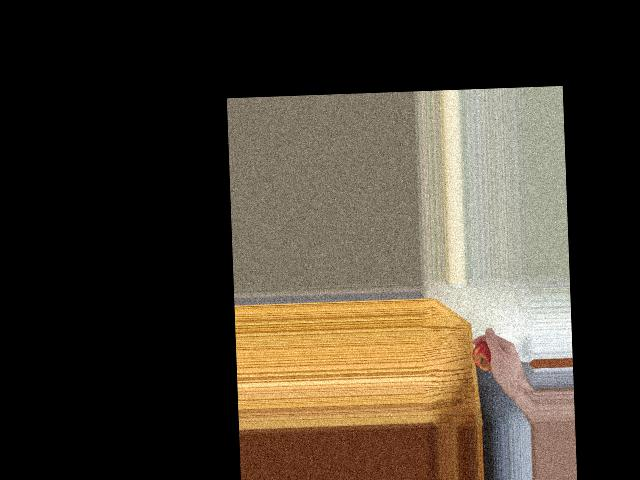apple: (469, 338, 498, 367)
